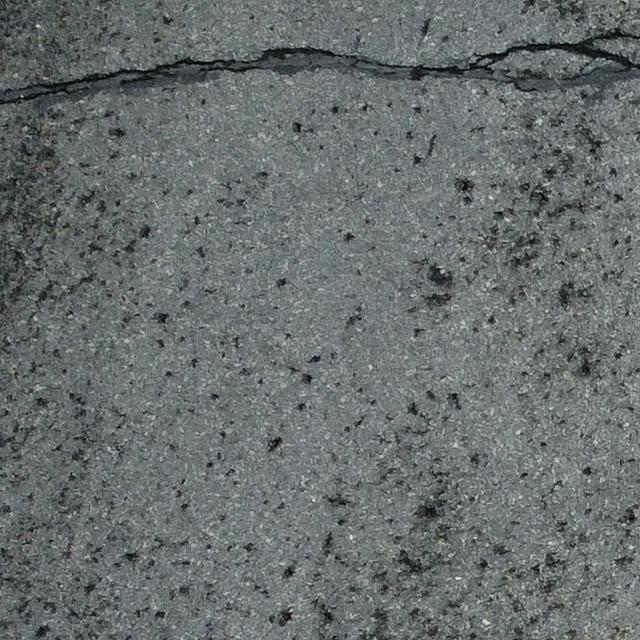TransverseCrack: (1, 27, 640, 103)
